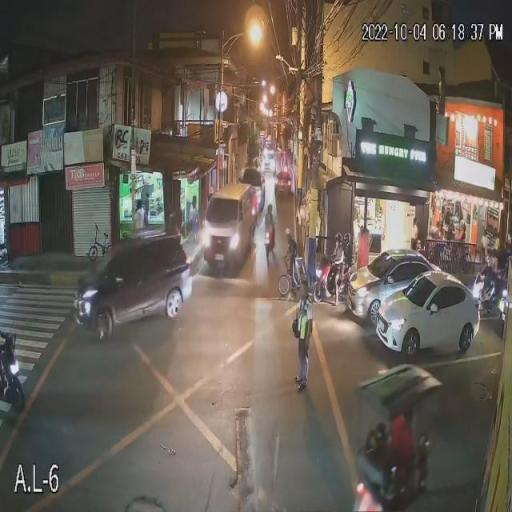helmet: (342, 232, 352, 248), (332, 234, 344, 247)
motorcycle: (352, 443, 424, 512), (0, 331, 26, 412), (311, 260, 350, 306), (470, 275, 506, 321), (262, 224, 276, 257)
rider: (368, 392, 429, 489), (477, 248, 500, 296), (330, 232, 348, 292), (336, 244, 360, 288), (263, 208, 277, 242)
